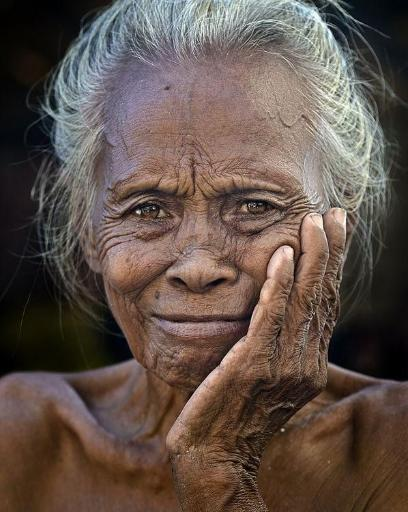left_eye: (233, 196, 281, 219)
left_lip_corner: (231, 313, 247, 334)
right_eye: (123, 199, 176, 225)
right_lip_corner: (150, 308, 165, 328)
